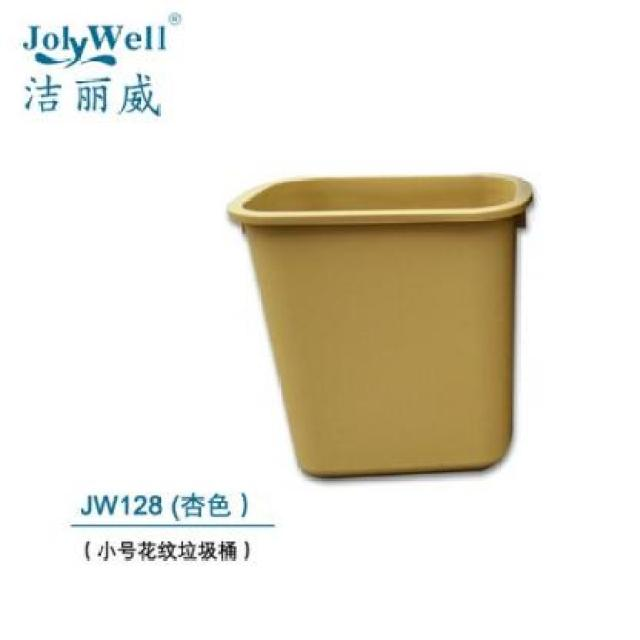dustbin: (222, 170, 536, 486)
